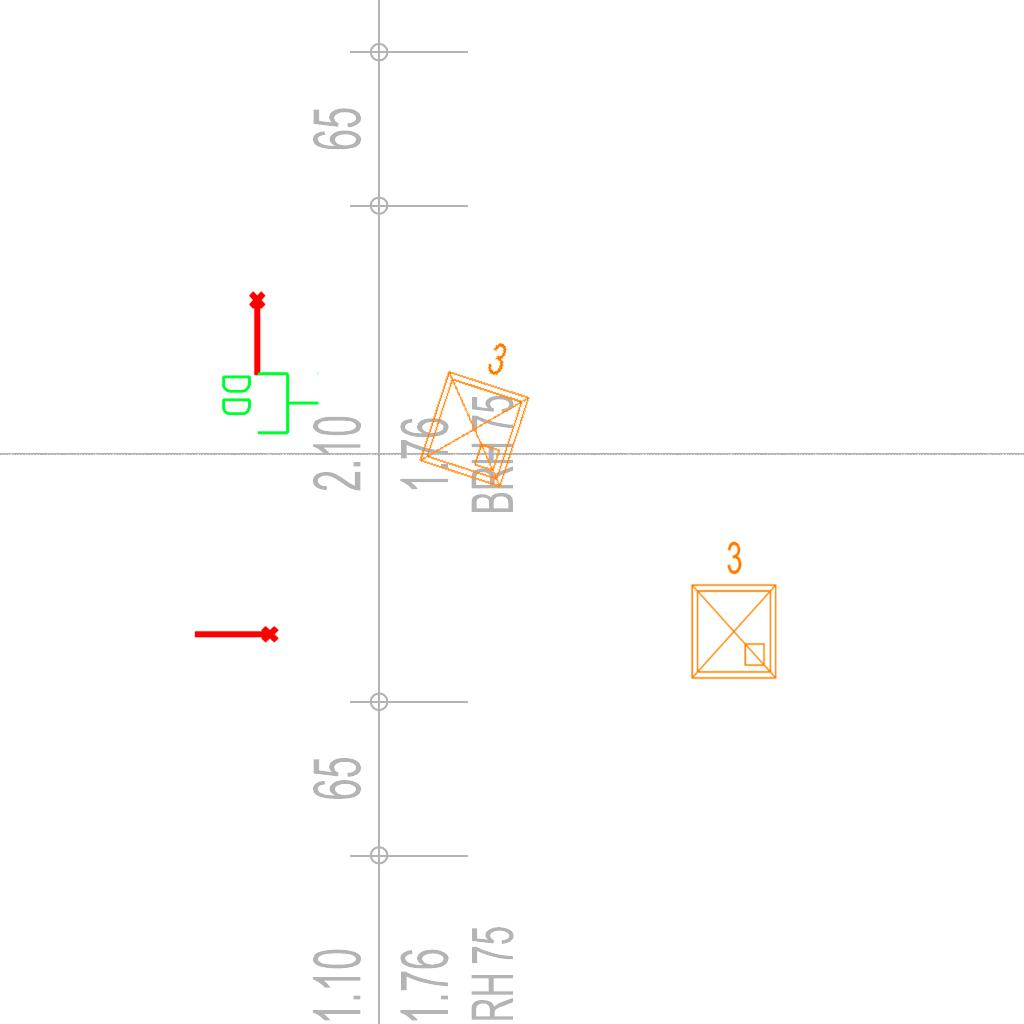ASR_Ansaugoeffnung: (247, 290, 270, 378), (192, 624, 280, 647)
Datenanschluss_zweifach: (218, 368, 321, 437)
Einbaudownlights_LED_Konferenzraeume: (406, 321, 552, 497), (680, 536, 784, 686)
